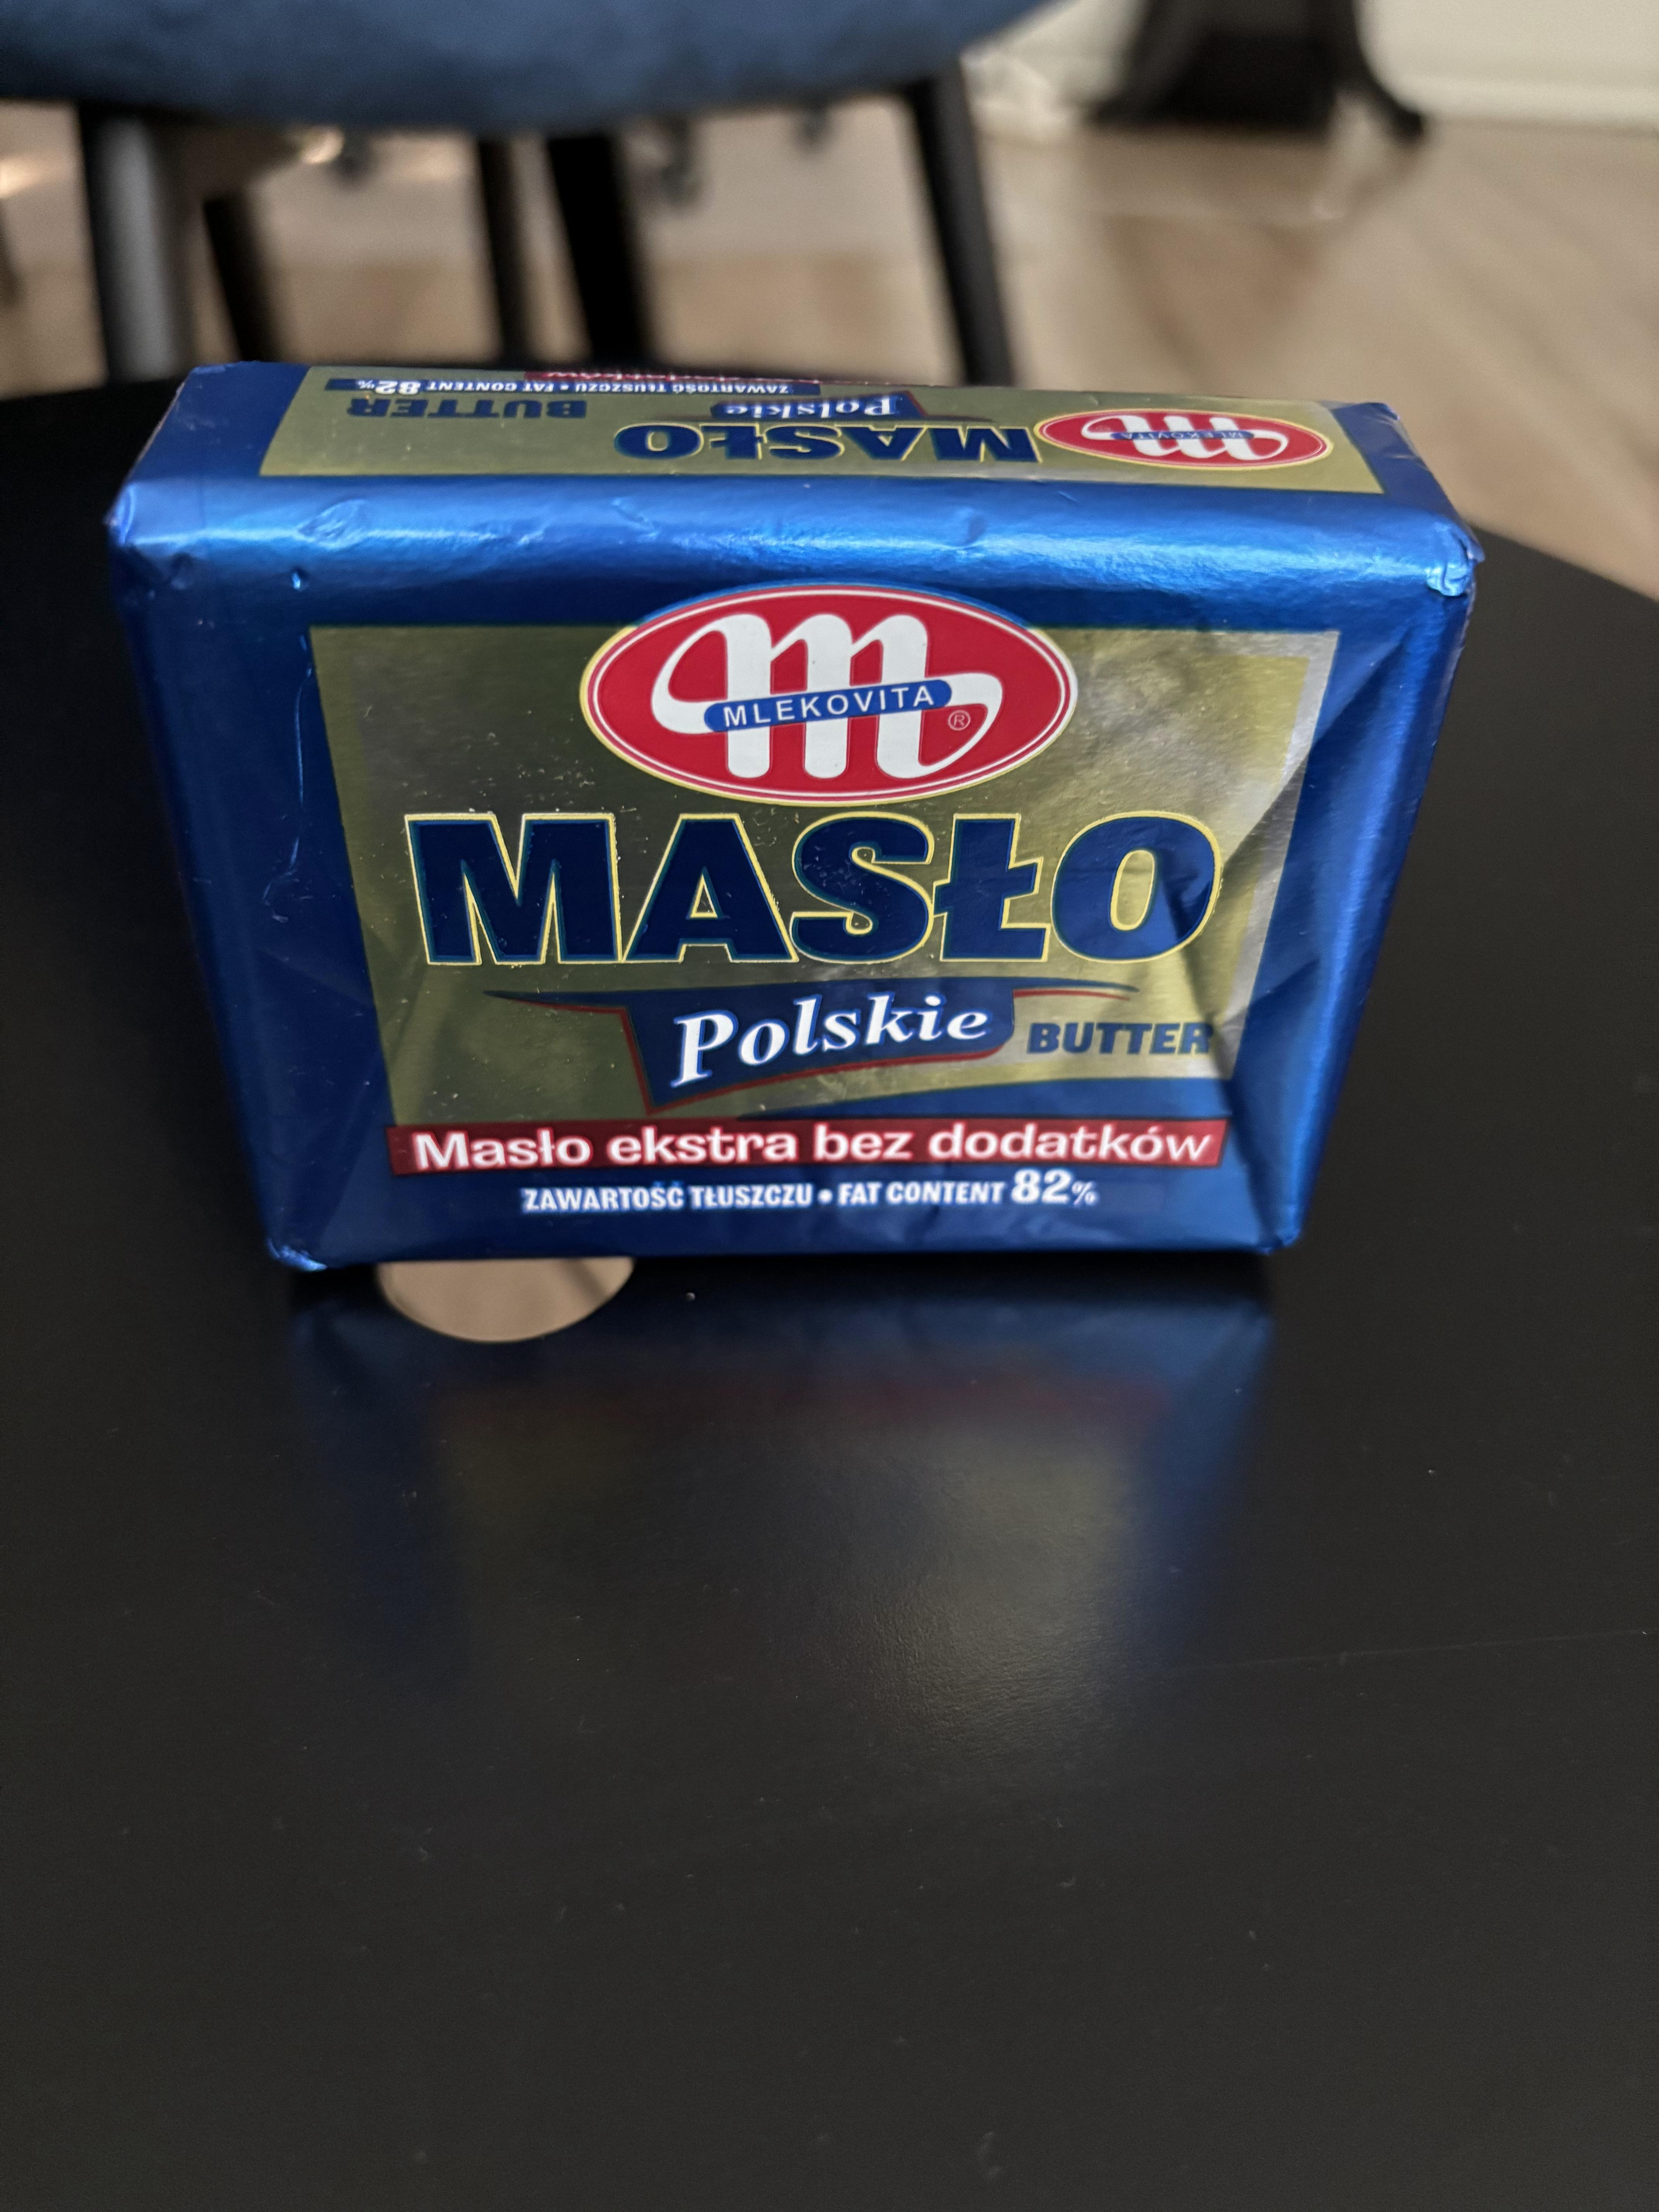Butter: (155, 373, 1396, 1294)
